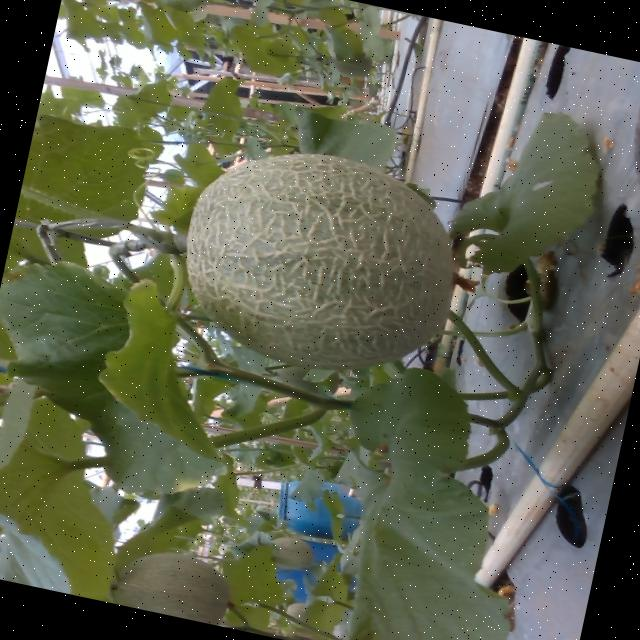melon: (186, 152, 456, 368)
